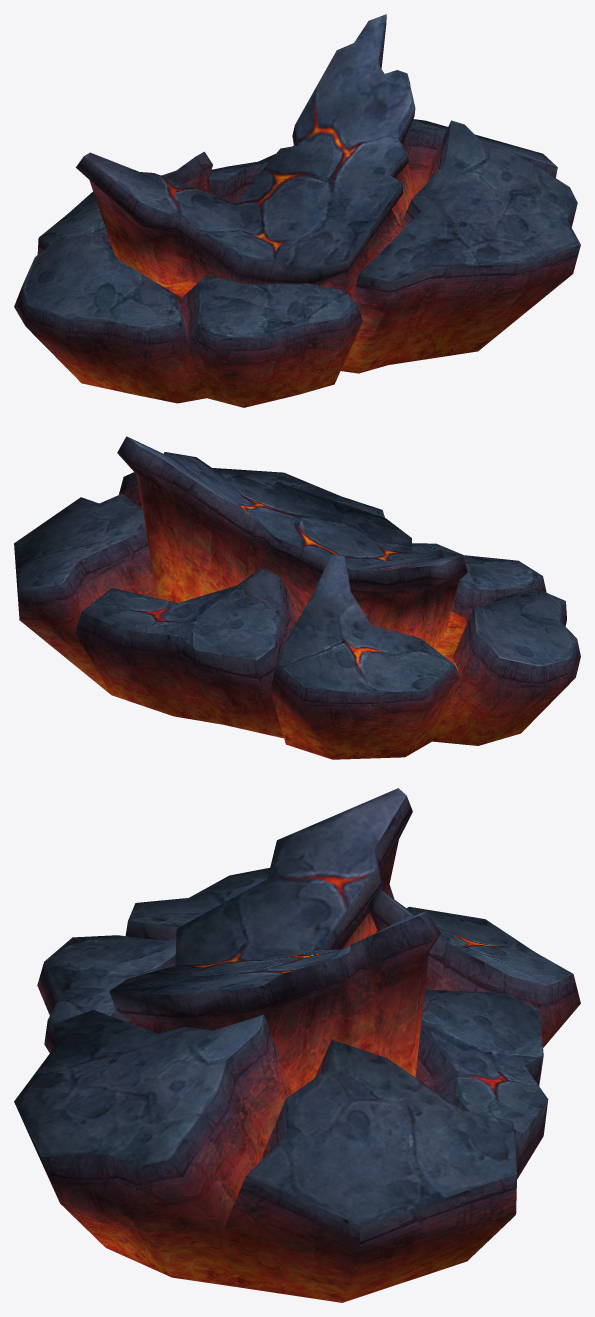
Rendered from Vo_N_Fissure01.FBX.
3 renders of one model, top to bottom at view 1: azimuth 30°, elevation 25°; view 2: azimuth 150°, elevation 25°; view 3: azimuth 270°, elevation 25°, orthographic. The views are drawn at different scales.
Parts seen in each view (by area): view 1: Vo_N_Fissure01; view 2: Vo_N_Fissure01; view 3: Vo_N_Fissure01.
Part boxes in pixels (<box>): Vo_N_Fissure01: <box>14,14,580,407</box>; Vo_N_Fissure01: <box>14,436,580,759</box>; Vo_N_Fissure01: <box>14,788,580,1302</box>.
Size of the model in its own units: 1018 by 447 by 661.
